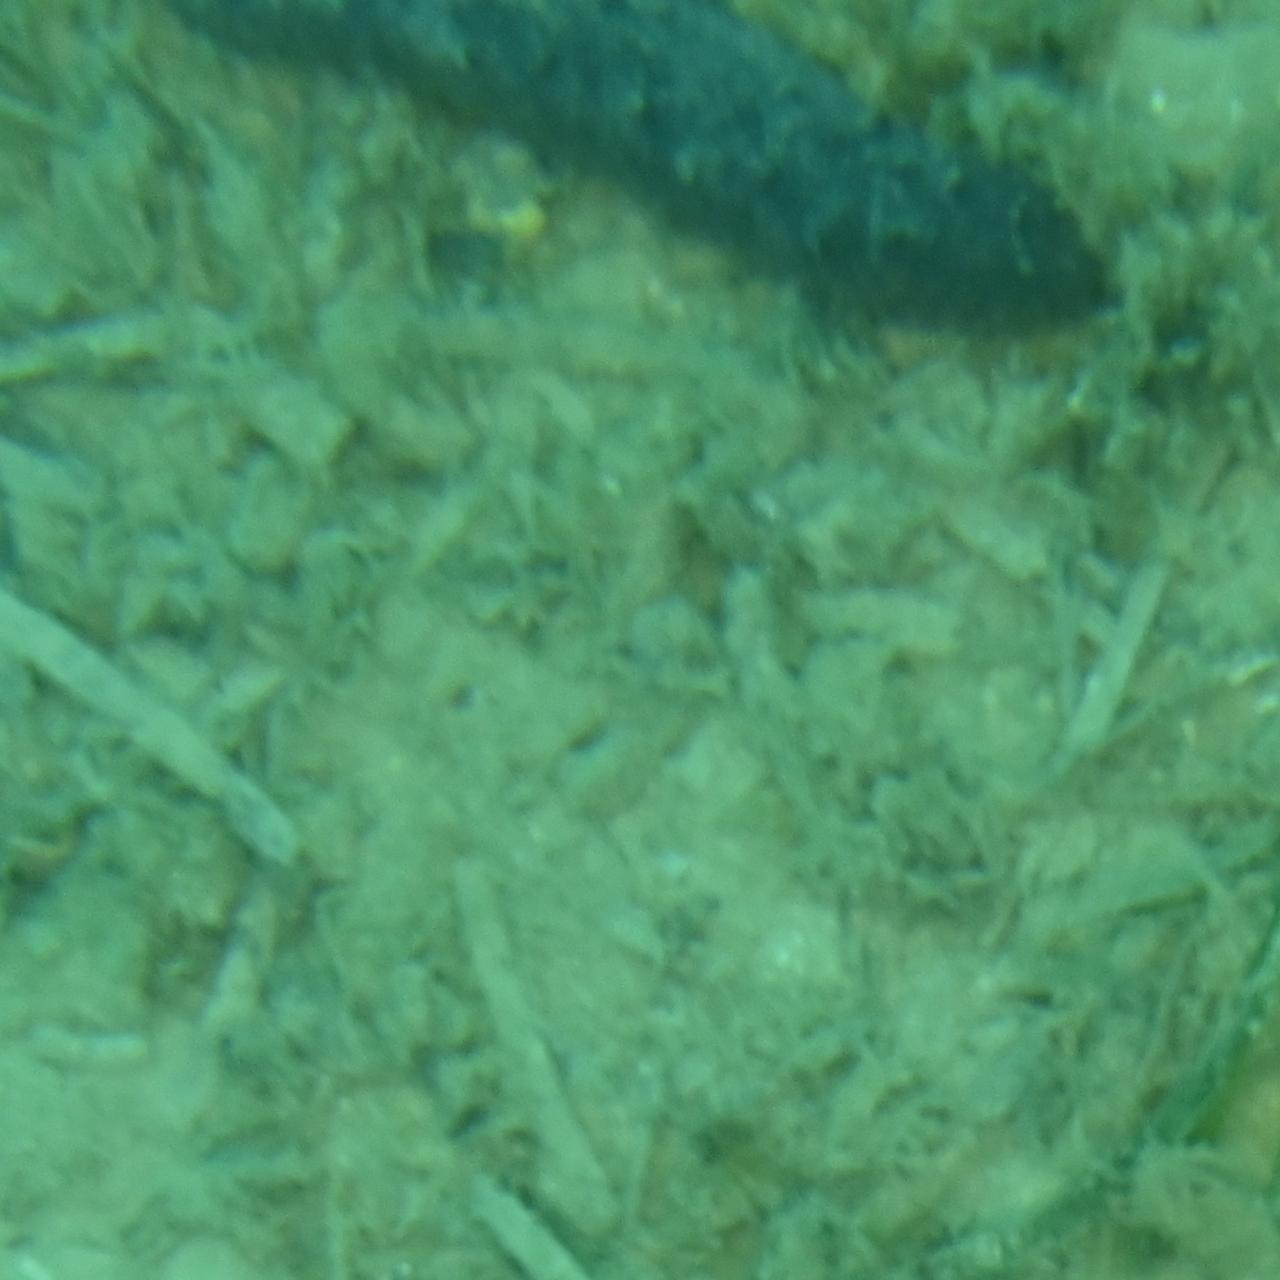Holothuria tubulosa: (149, 2, 1131, 350)
